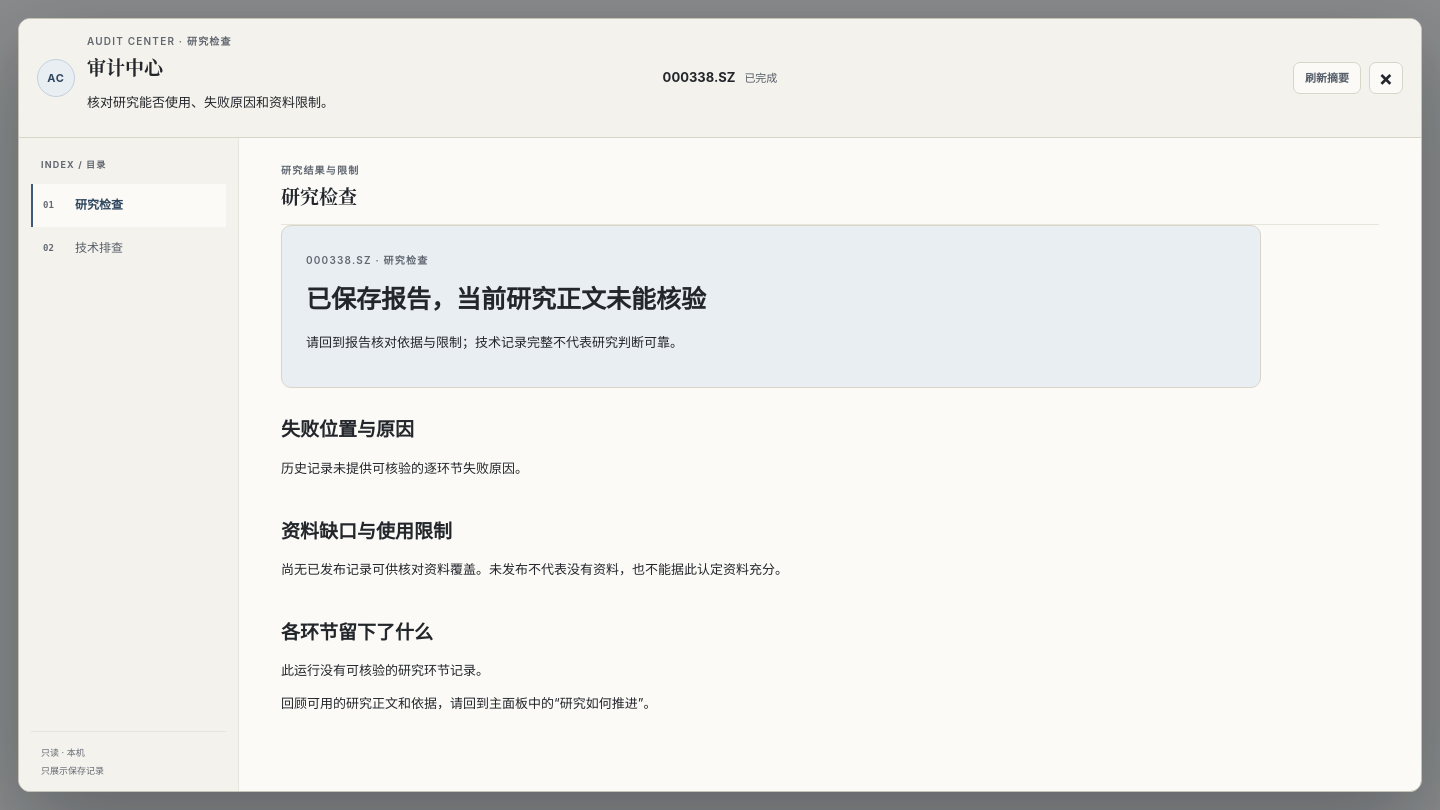
AuditCenter › keeps native authorization lower bounds and missing counts distinct from zero
Expected: the text "预算授权" is not shown
Click the button "02 技术排查". click: (128, 248)
box: left=31, top=226, right=226, bottom=270
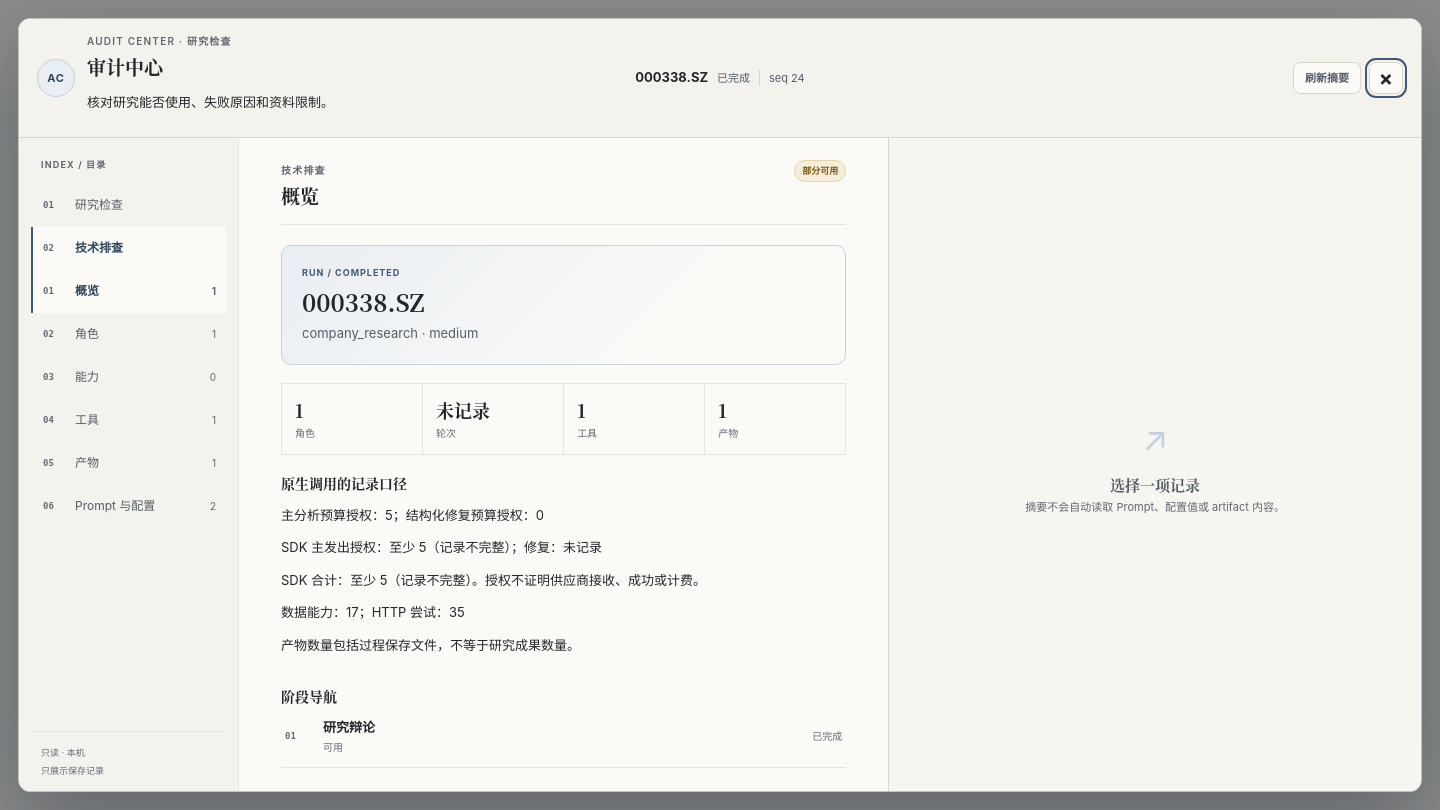
Expected: the text "主分析预算授权：5；结构化修复预算授权：0" is shown, left=281, top=506, right=544, bottom=522
Expected: the text "SDK 主发出授权：至少 5（记录不完整）；修复：未记录" is shown, left=281, top=539, right=602, bottom=555
Expected: the text "SDK 合计：至少 5（记录不完整）。授权不证明供应商接收、成功或计费。" is shown, left=281, top=572, right=706, bottom=588
